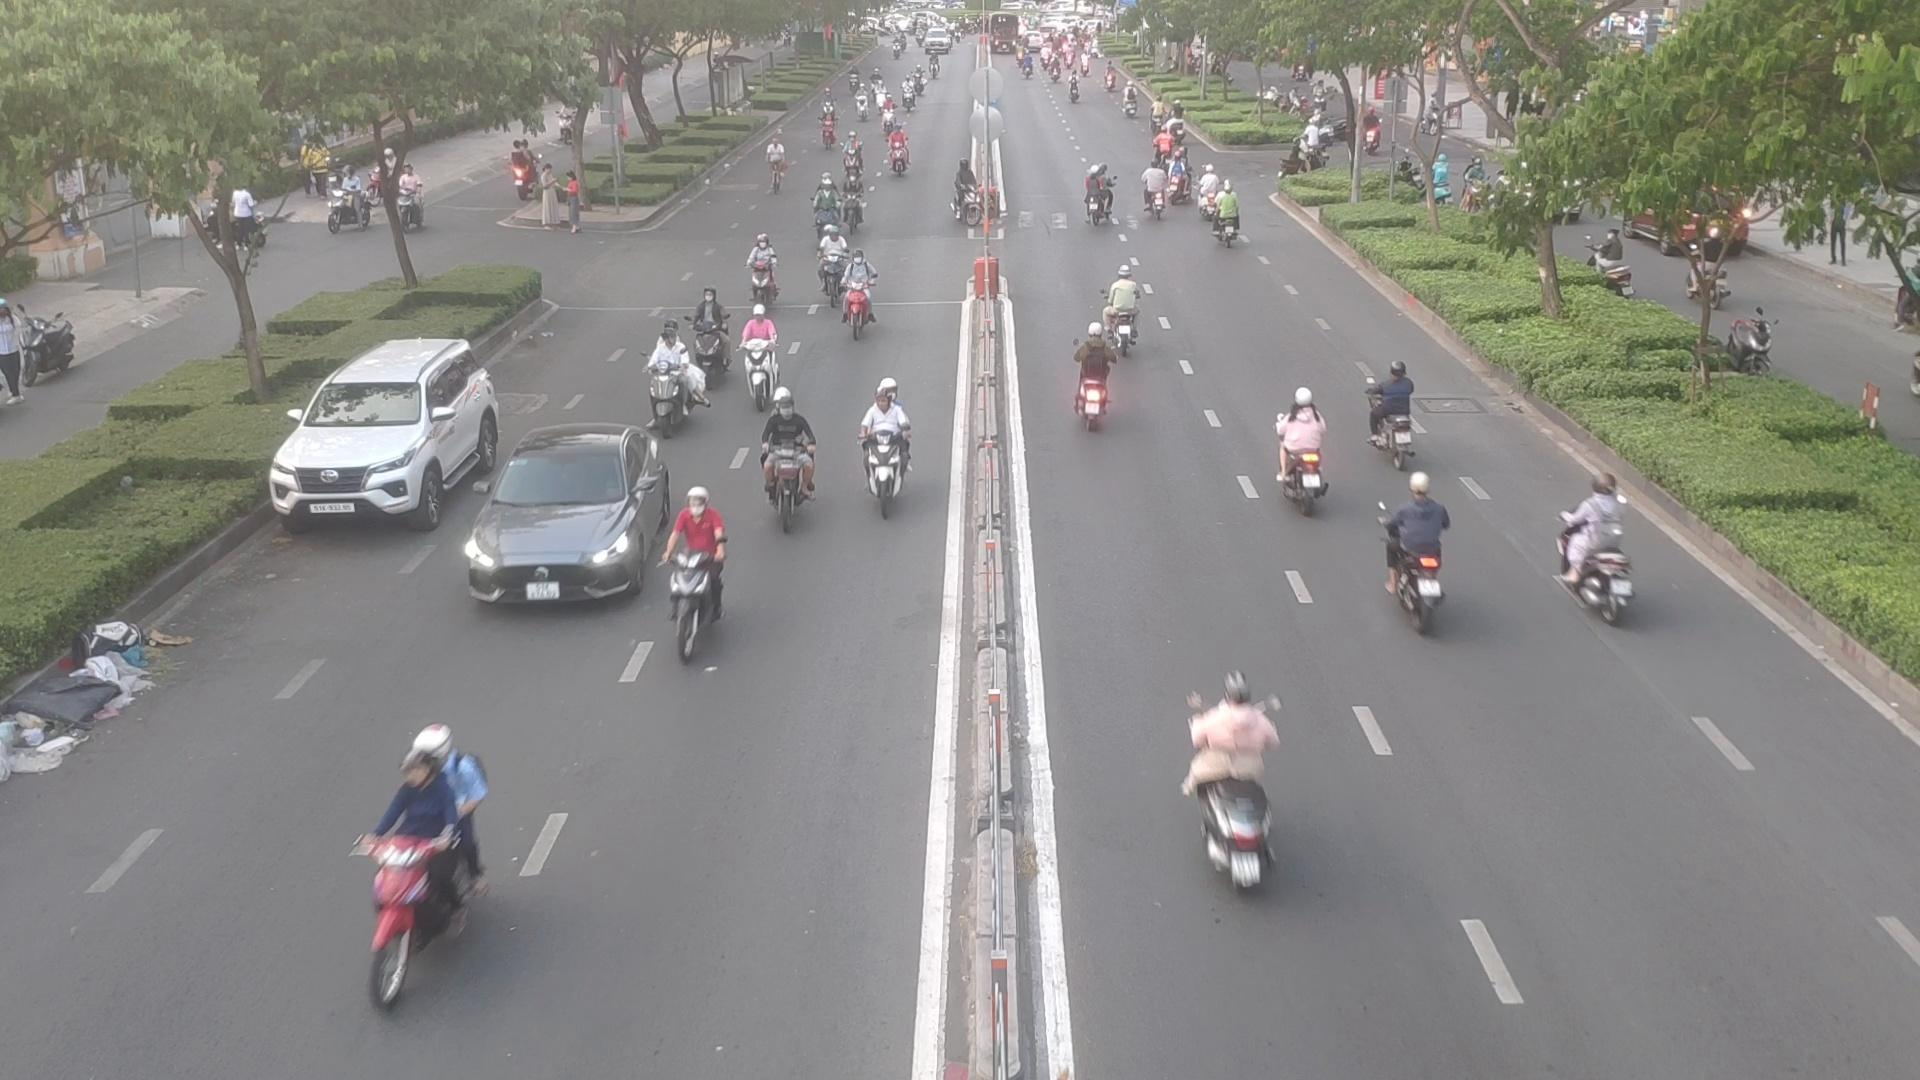car: (273, 339, 514, 531), (462, 434, 676, 612)
motorbike: (332, 723, 488, 1004), (1188, 679, 1298, 891), (1568, 483, 1654, 624), (1385, 488, 1464, 622), (669, 488, 728, 657), (756, 402, 824, 531), (855, 385, 916, 516), (1265, 393, 1332, 512), (640, 340, 707, 434), (1364, 365, 1424, 463), (1069, 320, 1113, 436), (740, 290, 783, 404), (837, 243, 884, 345), (684, 294, 737, 376), (1105, 262, 1138, 368), (740, 233, 782, 301), (808, 175, 857, 233), (820, 220, 853, 305), (1077, 165, 1117, 225), (1213, 182, 1244, 251), (882, 129, 914, 178), (1141, 160, 1166, 218), (844, 169, 866, 229), (843, 133, 865, 189), (1168, 146, 1188, 208), (1199, 166, 1216, 218), (820, 108, 837, 152)
